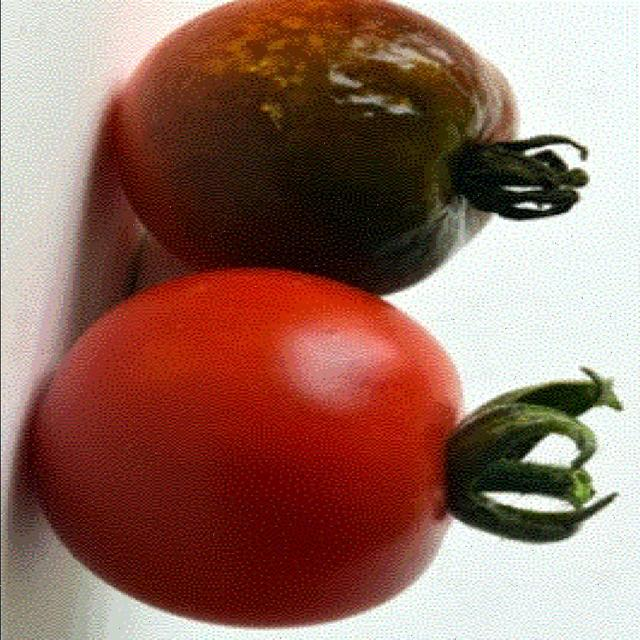Healthy Fruit: (24, 198, 324, 407)
